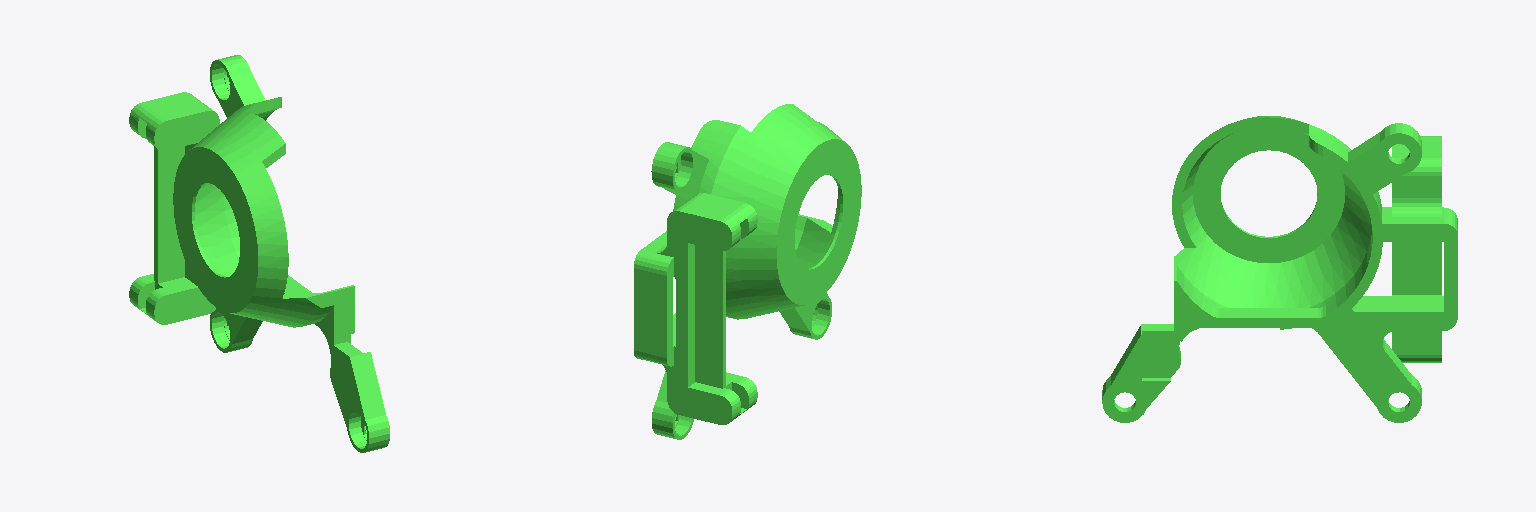
Rendered from kyslík.obj.
3 renders of one model, left to right at view 1: azimuth 30°, elevation 25°; view 2: azimuth 150°, elevation 25°; view 3: azimuth 270°, elevation 25°, orthographic.
Visible parts, largest first — view 1: Solid1; view 2: Solid1; view 3: Solid1.
Boxes of the visible parts, <box> form: Solid1: <box>129,55,389,452</box>; Solid1: <box>634,104,861,439</box>; Solid1: <box>1102,116,1457,422</box>.
Size of the model in its own units: 15.18 by 46.09 by 51.3.